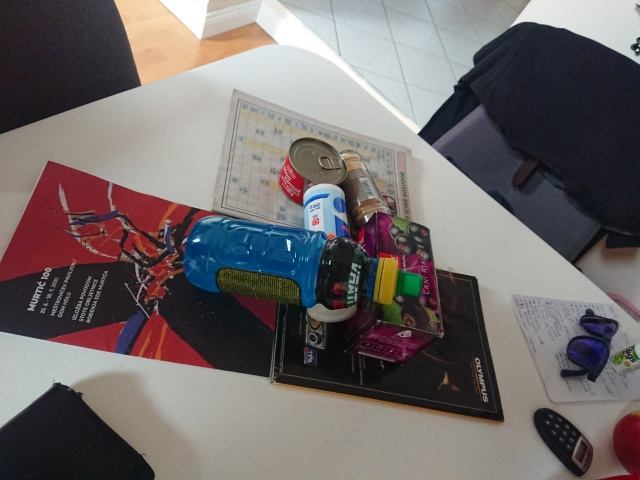Franck Black Currant Tea 60g: (337, 208, 448, 367)
Kotanyi Garlic Granules 70g: (328, 147, 399, 240)
Podravka Luncheon Meat 150g: (276, 135, 350, 209)
Solana Pag Fine Sea Salt 250g: (301, 181, 360, 325)
Vindi Iso Sport Forest Strawberries 500mL: (181, 214, 426, 312)
